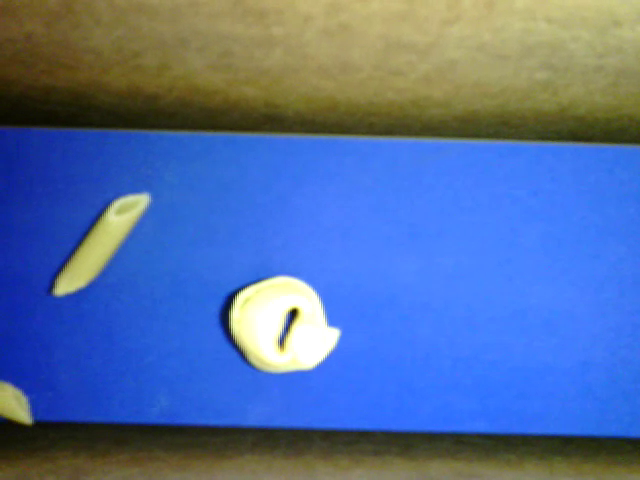penne: (51, 193, 151, 297), (1, 381, 34, 425)
tortellini: (228, 273, 343, 376)
